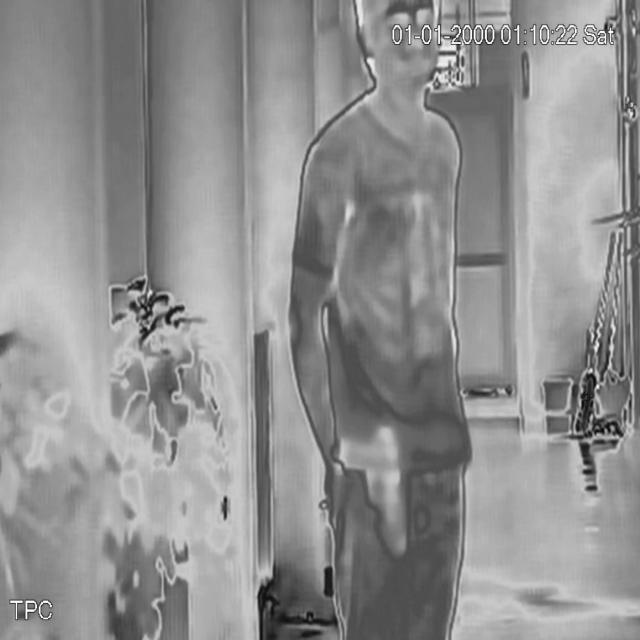Weapon: (324, 419, 434, 577)
